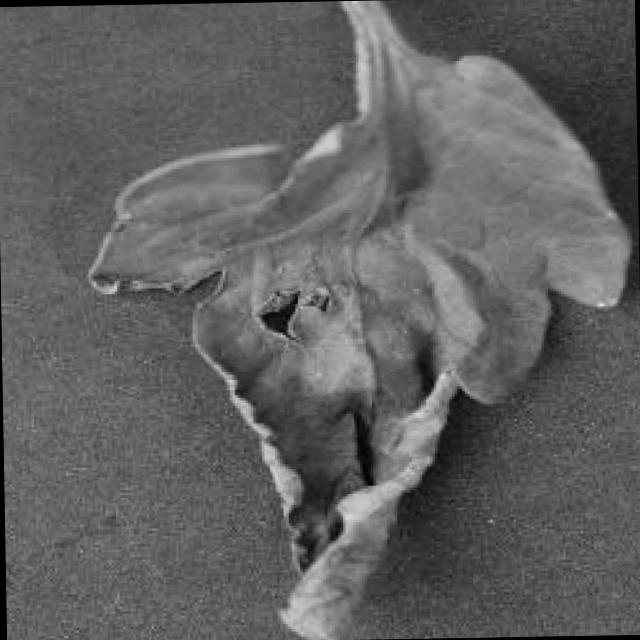leaf blight: (93, 0, 634, 640)
